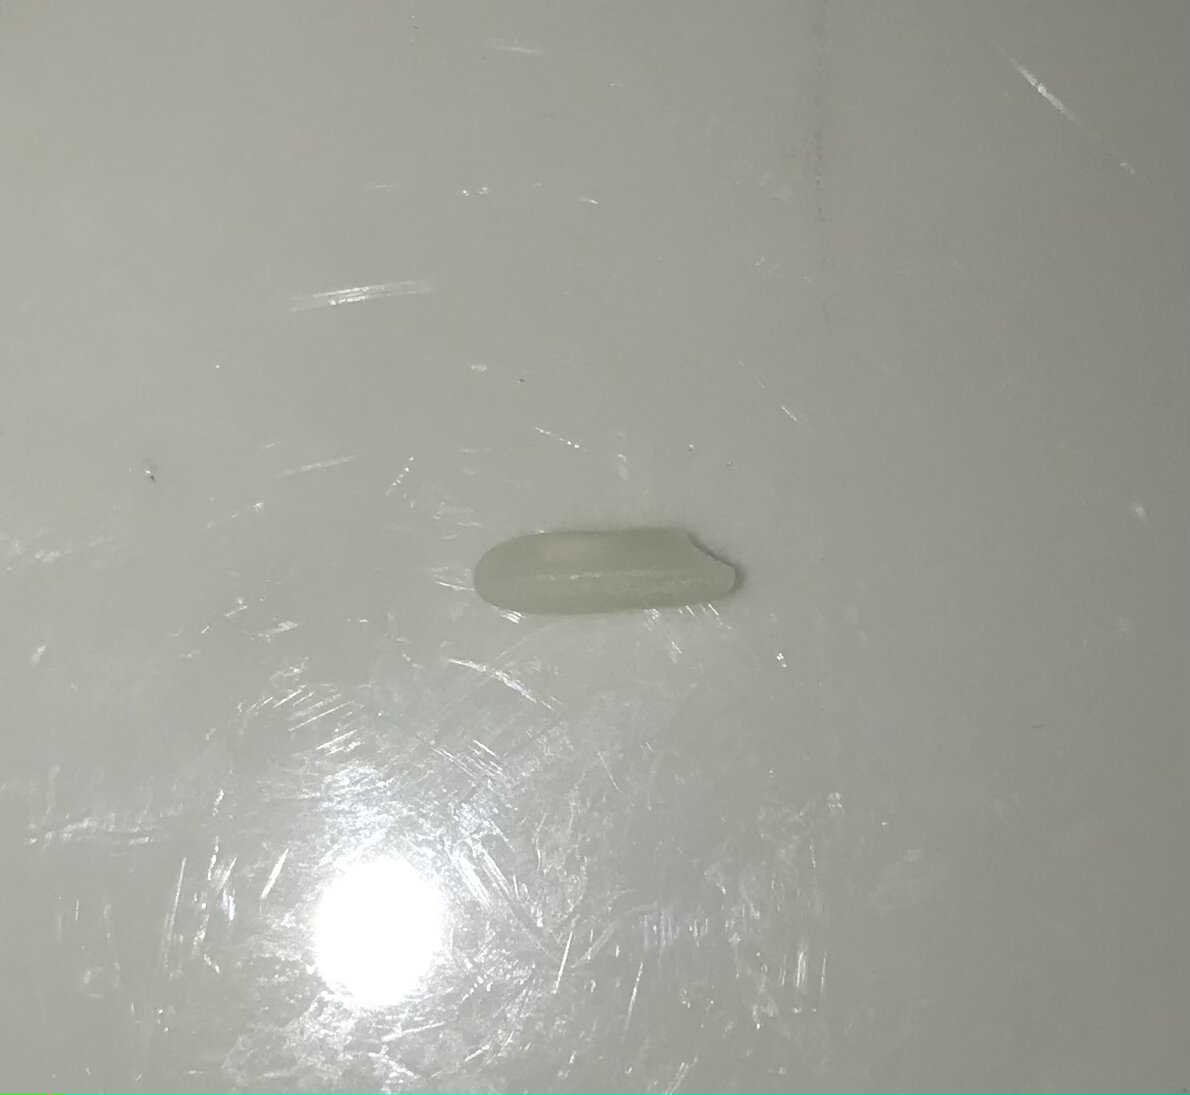Gao Lai Sua: (466, 511, 748, 630)
